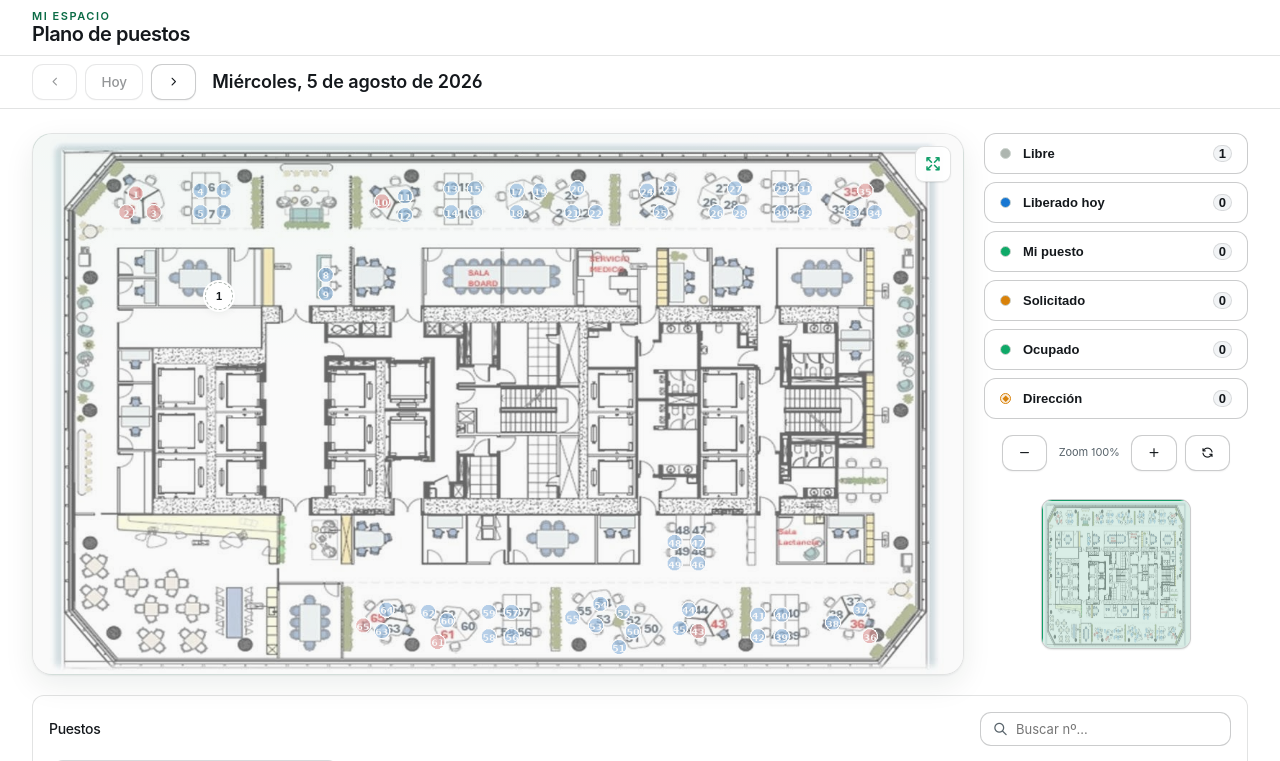
Test: FloorPlanPage › should_ask_for_confirmation_before_requesting_a_free_desk
Step 1. Click the button named "puesto 1" → (219, 296), box [205,282,233,310]
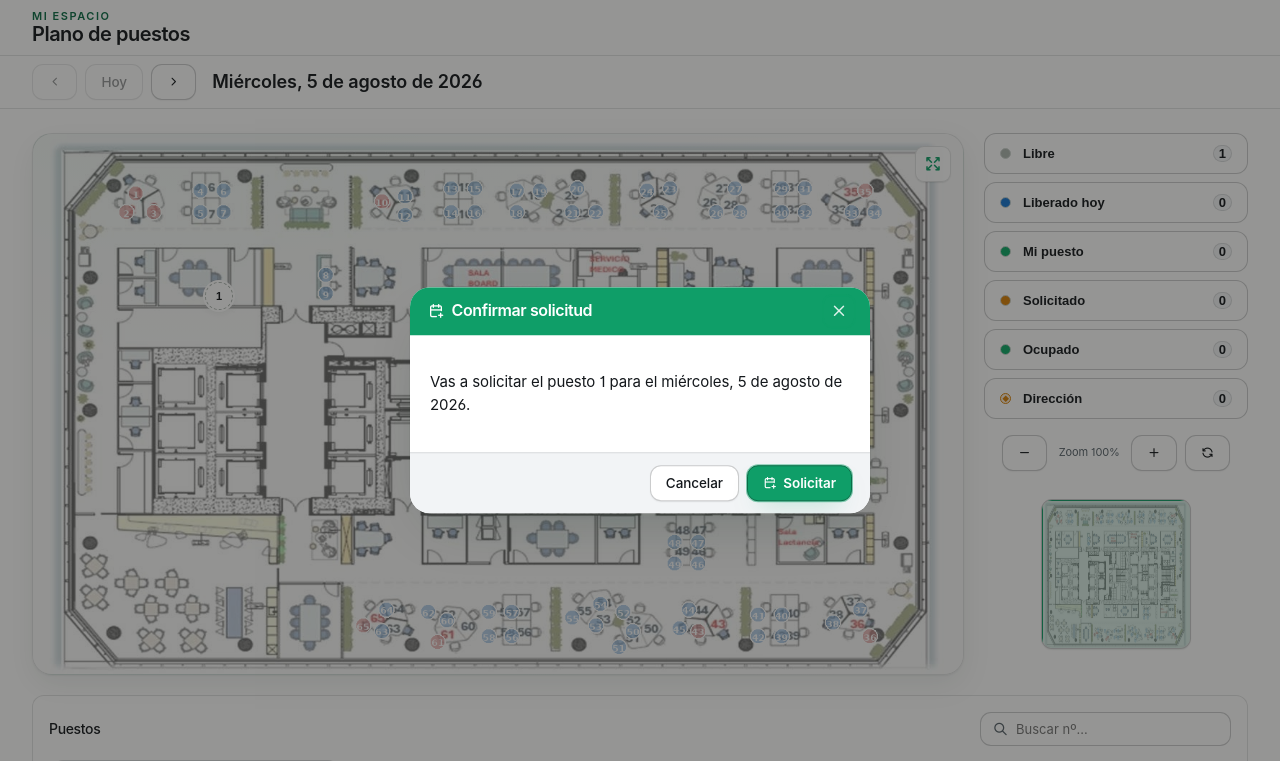
Expected: the text "1" is shown, [430,372,842,415]
Step 2. Click the button "Cancelar" → (694, 483), box [650,465,739,501]
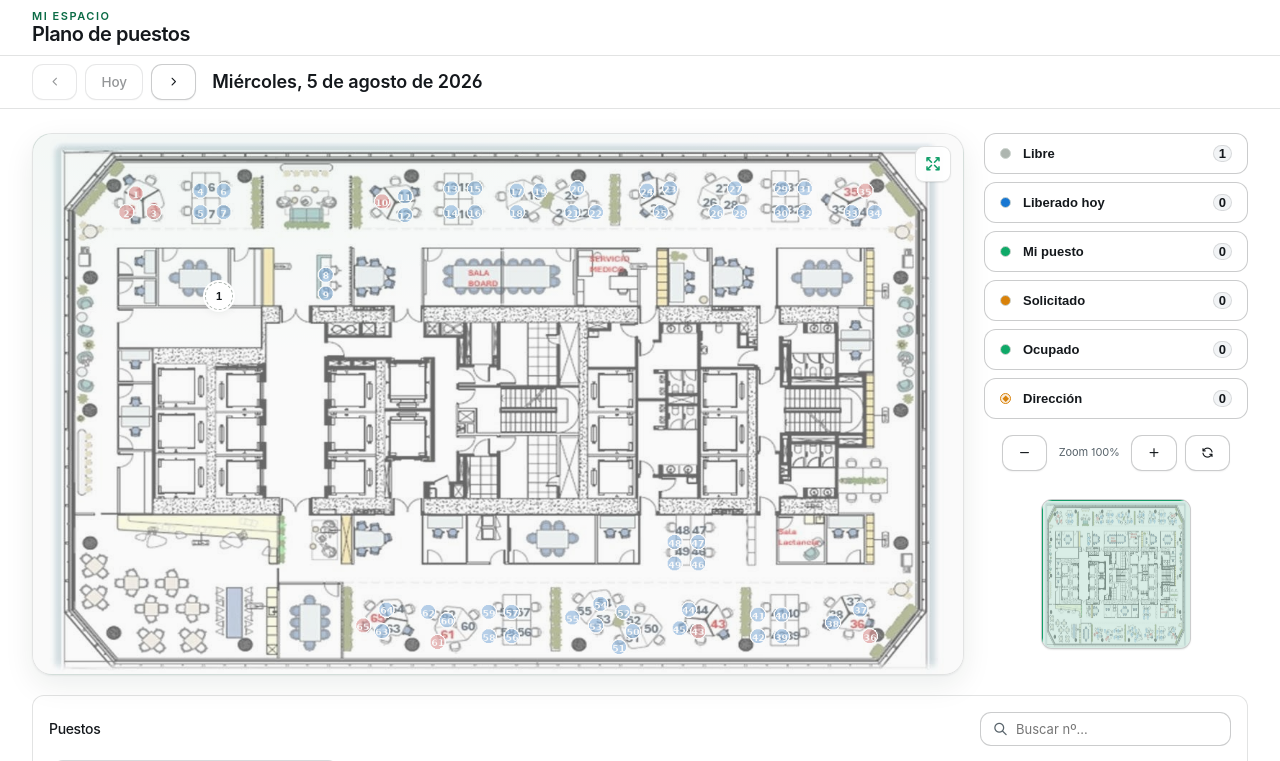
Expected: the dialog is gone
